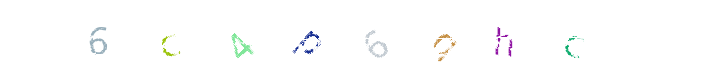4: (269, 0, 349, 80)
6: (141, 0, 221, 80), (298, 0, 378, 80)
C: (230, 0, 310, 80), (529, 0, 609, 80)
H: (463, 0, 543, 80)
P: (293, 0, 373, 80)
Q: (315, 0, 395, 80)
